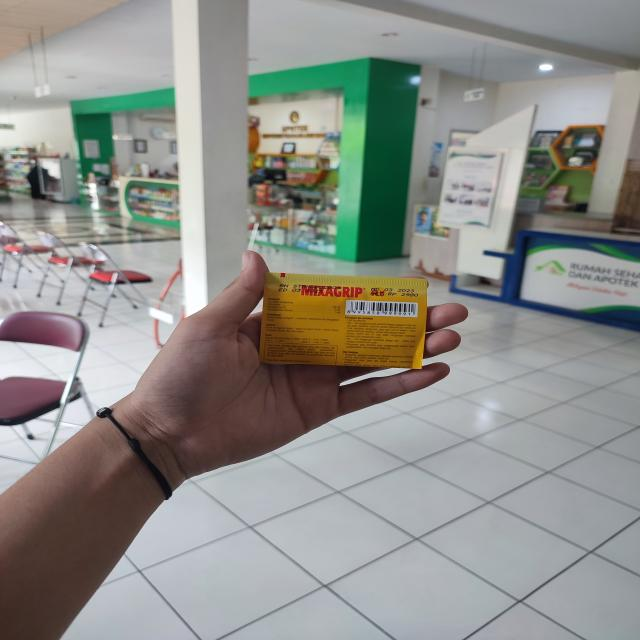B3: (261, 272, 428, 368)
